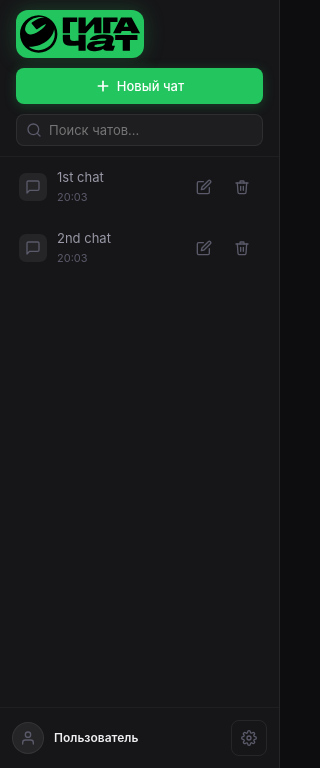
Test: Sidebar — фильтр поиска › после очистки поля поиска снова отображаются все чаты
Type "1st" into the search field labelled "Поиск чатов...". click: (140, 130)
box: [16, 114, 263, 146]
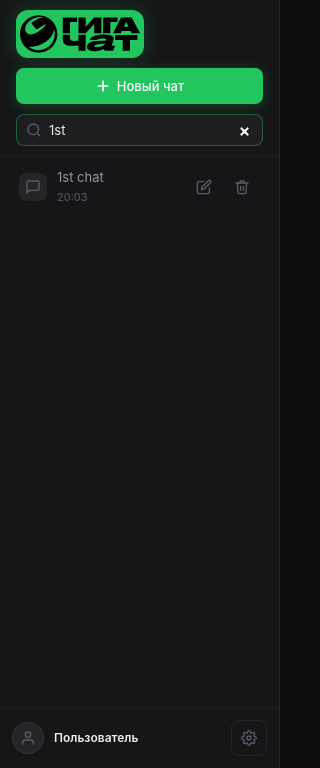
Clear the search field named "Поиск". click: (140, 130)
box: [16, 114, 263, 146]
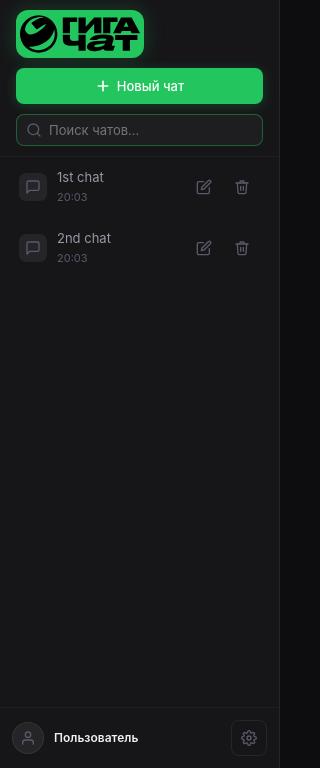
expect the text "1st chat" is shown: met, box [57, 169, 104, 185]
expect the text "2nd chat" is shown: met, box [57, 230, 111, 246]
